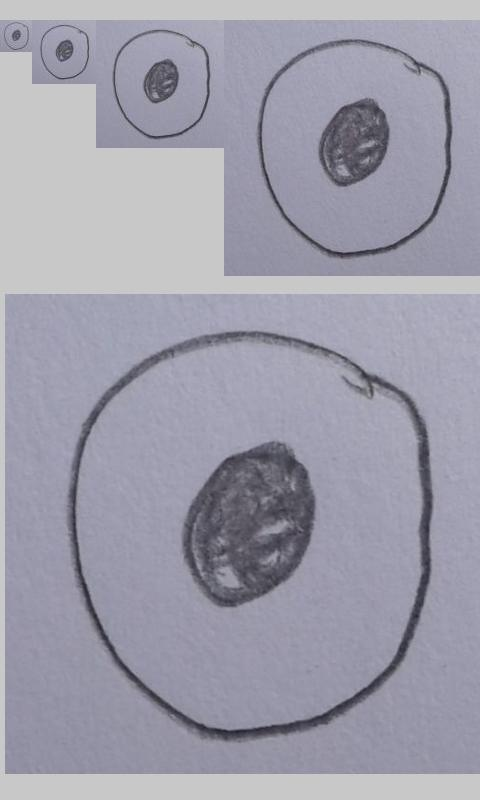radio_button: (66, 326, 436, 746), (256, 38, 453, 260), (112, 28, 211, 140), (39, 23, 90, 81), (3, 21, 30, 51)
